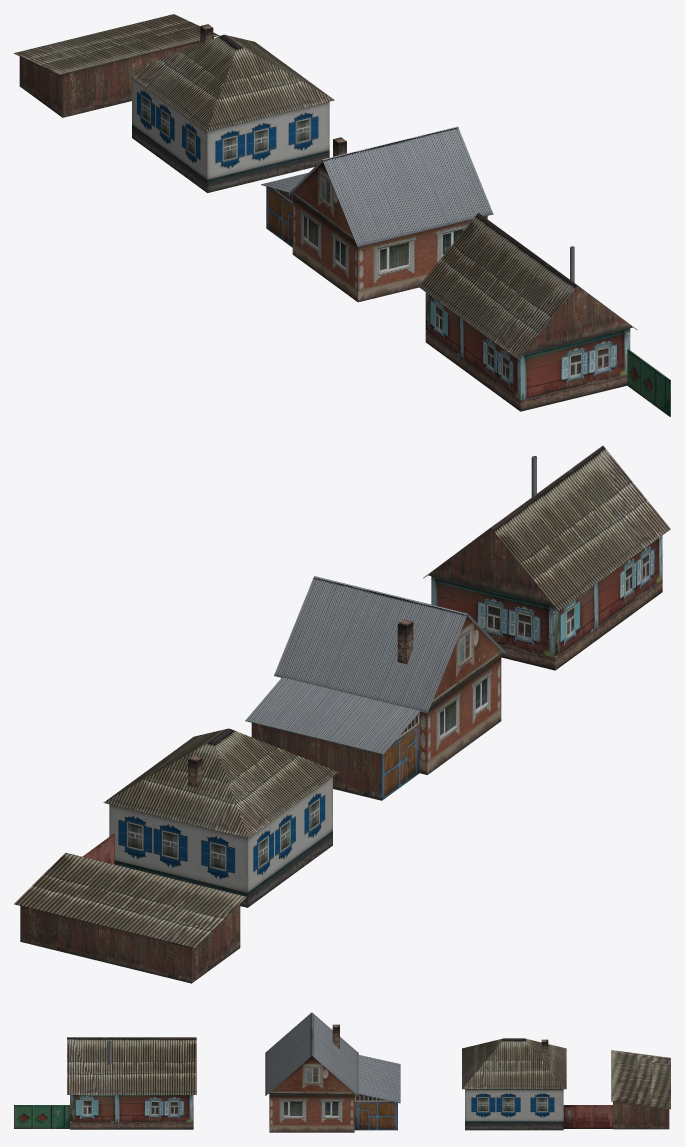
The model's file is iiu.fbx.
3 views of the same model, one above another, from view 1: azimuth 30°, elevation 25°; view 2: azimuth 150°, elevation 25°; view 3: azimuth 270°, elevation 25° (orthographic). The views are drawn at different scales.
Visible parts, largest first — view 1: Box001; view 2: Box001; view 3: Box001.
Part boxes in pixels (left/top/right/bottom): Box001: left=14, top=14, right=670, bottom=416; Box001: left=14, top=445, right=670, bottom=983; Box001: left=14, top=1012, right=670, bottom=1132.
Bounding box in the file's own units: 9.71 × 6.67 × 49.87.
1 material, 1 textured.
